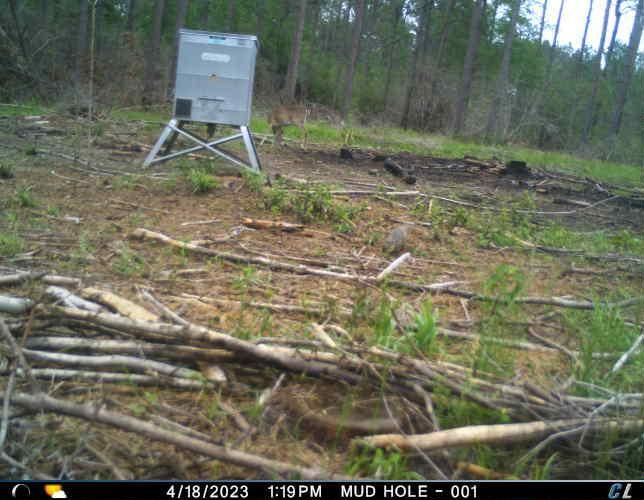Deer: (258, 101, 313, 151)
